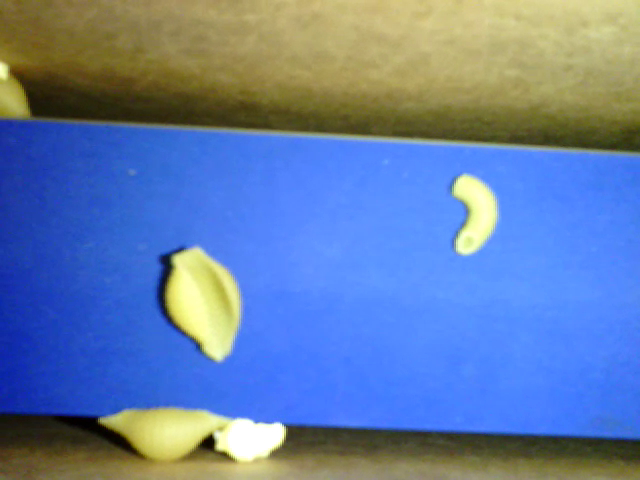elbow: (443, 172, 502, 256)
shell: (155, 246, 245, 364), (96, 407, 231, 464)
